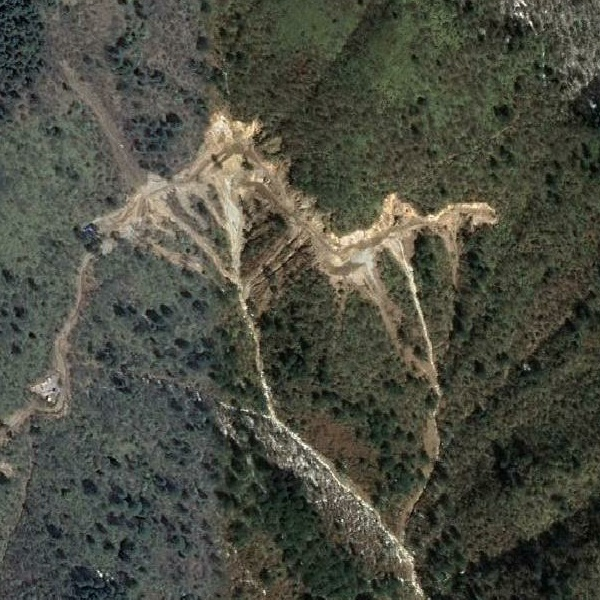slope: (78, 106, 503, 395)
